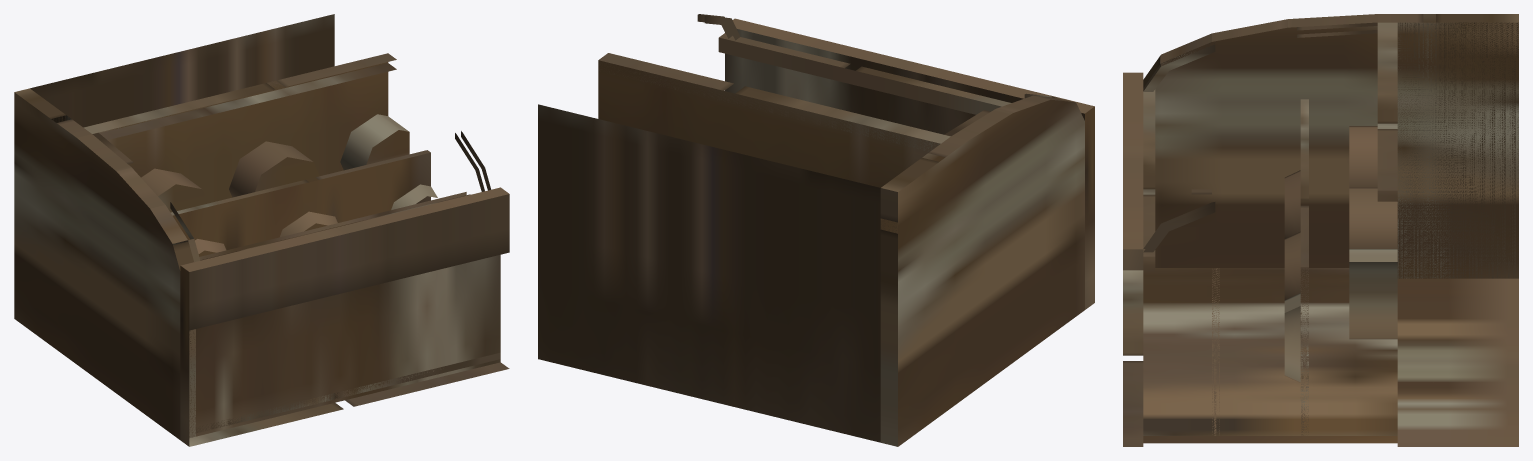
The model's file is section-6.obj.
3 views of the same model, side by side, from view 1: azimuth 30°, elevation 25°; view 2: azimuth 150°, elevation 25°; view 3: azimuth 270°, elevation 25° (orthographic). The views are drawn at different scales.
Bounding box in the file's own units: 1.04 × 0.7 × 0.98.
